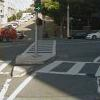Crosswalk: (40, 57, 94, 87)
